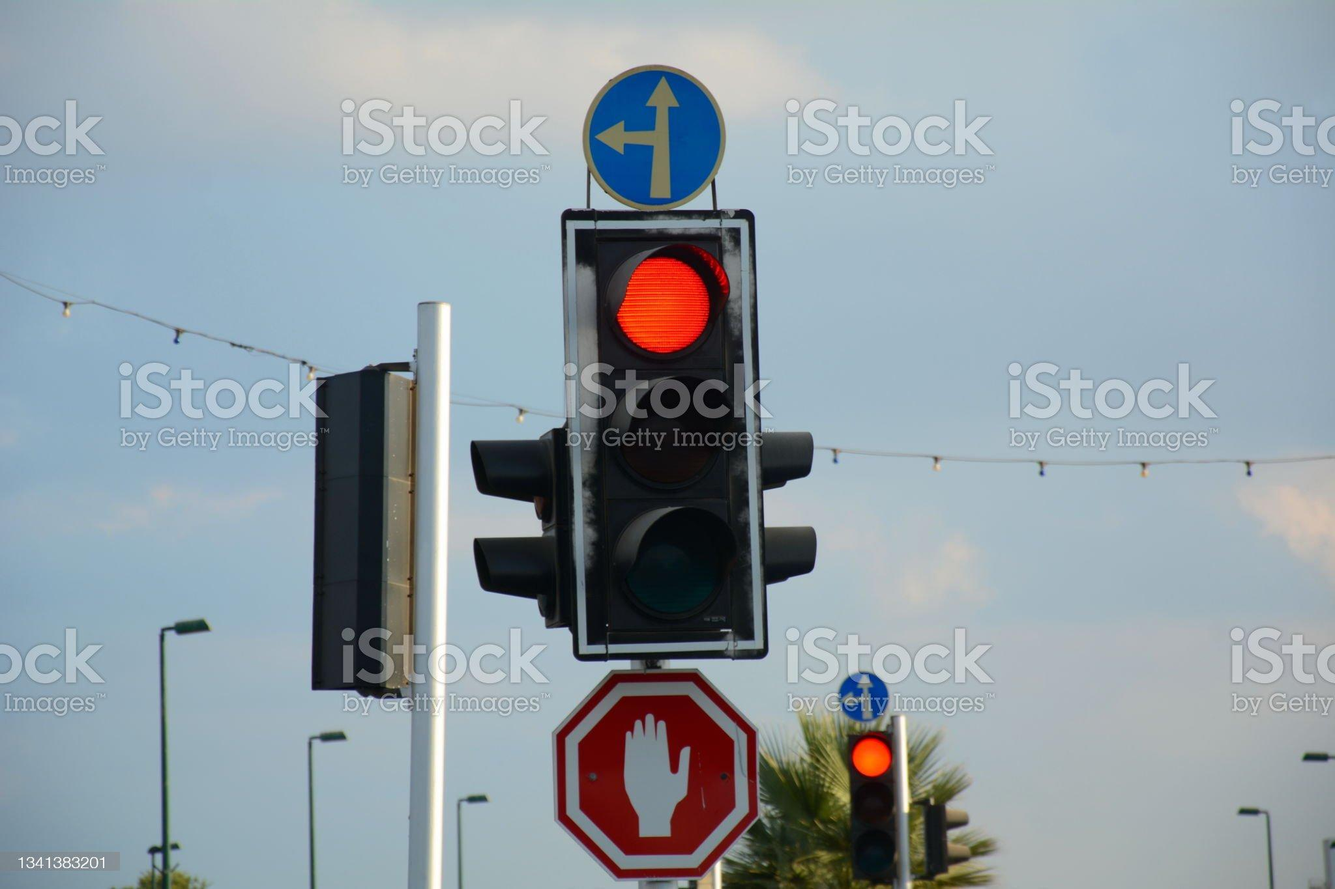red: (558, 206, 774, 647)
